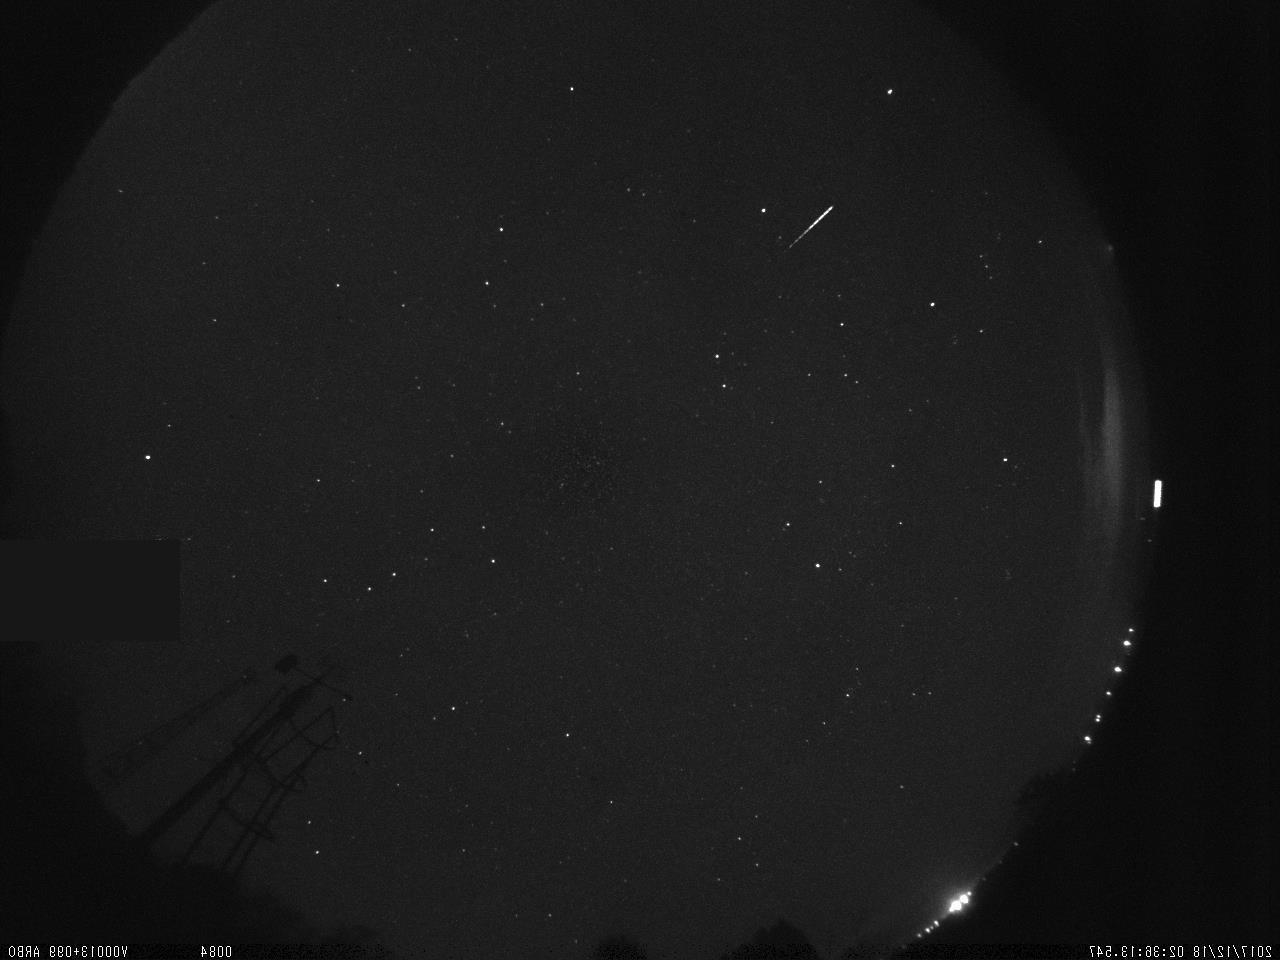meteor: (774, 197, 845, 266)
